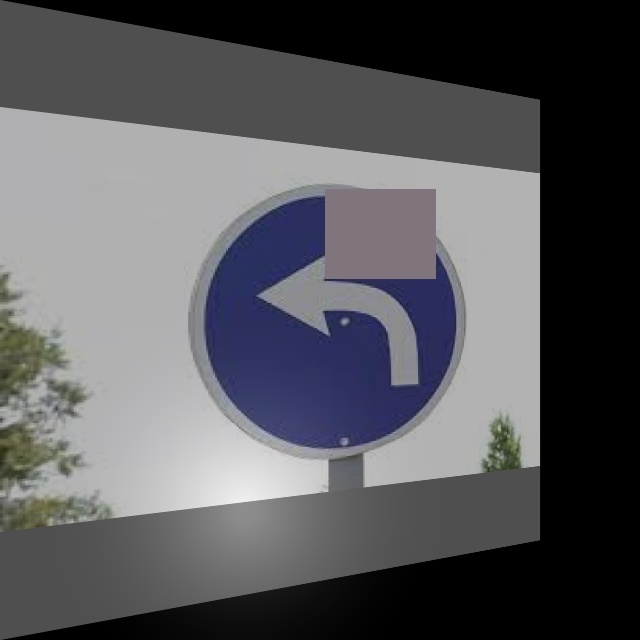Compulsory_Turn_Left_Ahead: (195, 168, 463, 469)
